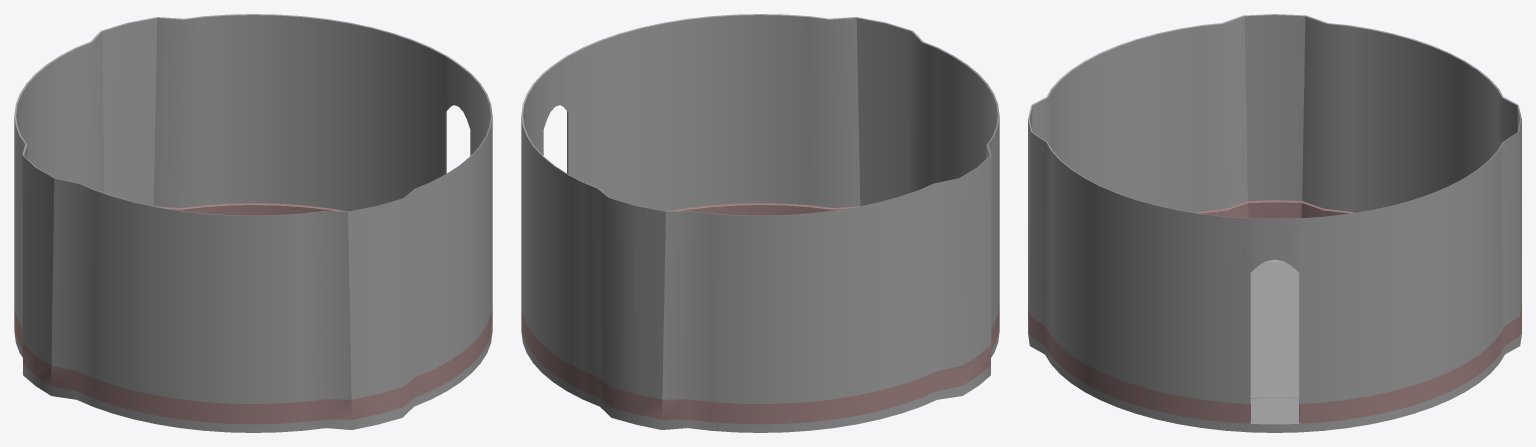
Rendered from SM_HubbWallsAndFloor_Collider.fbx.
3 renders of one model, left to right at view 1: azimuth 30°, elevation 25°; view 2: azimuth 150°, elevation 25°; view 3: azimuth 270°, elevation 25°, orthographic.
Parts seen in each view (by area): view 1: SM_Hubb_WallsAndFloor_Collider; view 2: SM_Hubb_WallsAndFloor_Collider; view 3: SM_Hubb_WallsAndFloor_Collider.
Part boxes in pixels (<box>): SM_Hubb_WallsAndFloor_Collider: <box>14,14,492,432</box>; SM_Hubb_WallsAndFloor_Collider: <box>521,14,999,432</box>; SM_Hubb_WallsAndFloor_Collider: <box>1028,14,1521,432</box>.
Bounding box in the file's own units: 10677 × 5246 × 10901.
